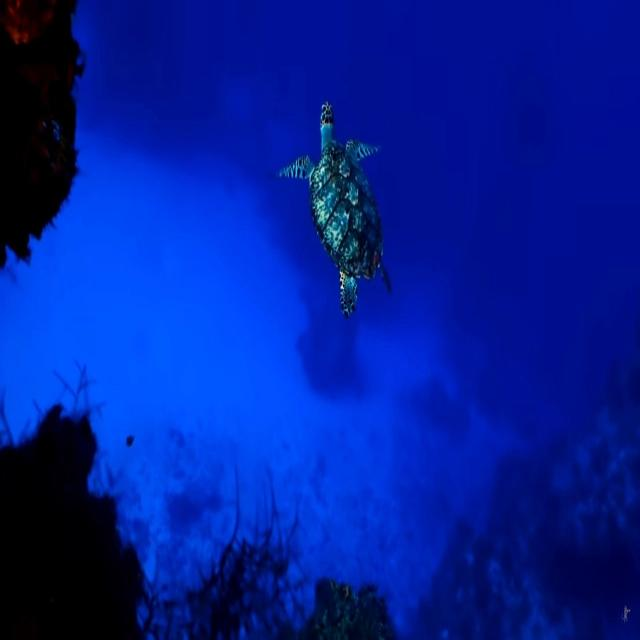Sea turtle: (279, 92, 395, 318)
